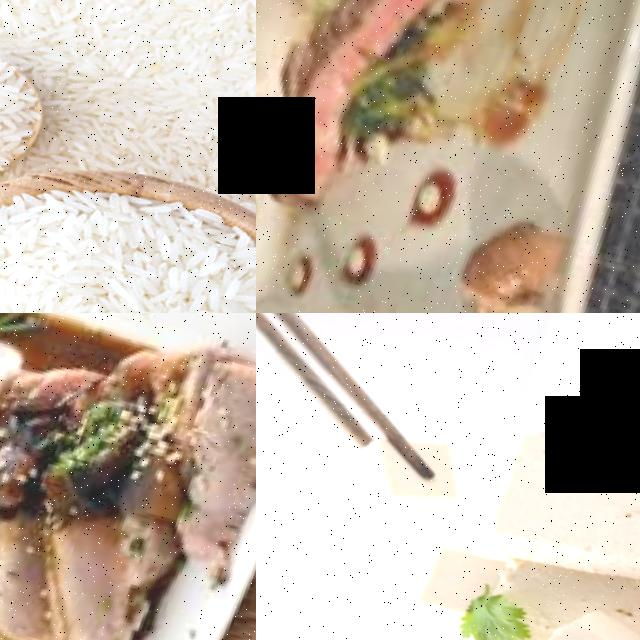tofu: (478, 408, 640, 614), (344, 425, 469, 538), (404, 541, 485, 638), (520, 600, 640, 640)
white rice: (47, 0, 256, 271), (0, 162, 256, 313), (0, 0, 146, 88), (0, 26, 56, 197)
